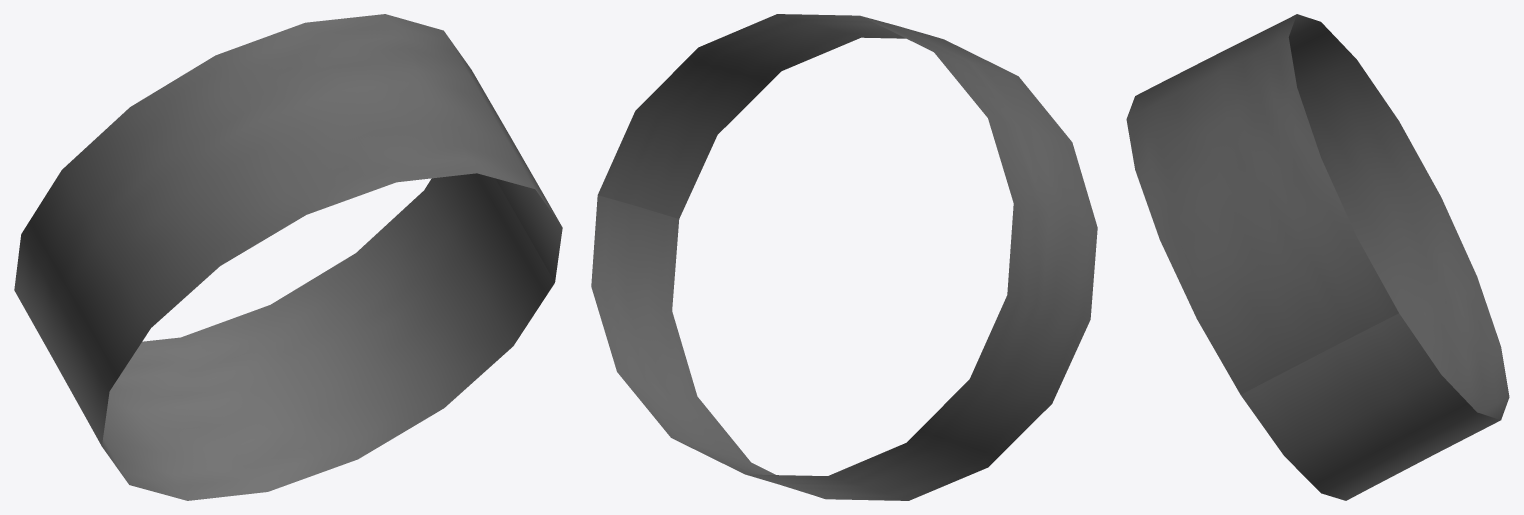
The model's file is mastarmcurve_6x2_c1.obj.
3 renders of one model, left to right at view 1: azimuth 30°, elevation 25°; view 2: azimuth 150°, elevation 25°; view 3: azimuth 270°, elevation 25°, orthographic. The views are drawn at different scales.
Parts seen in each view (by area): view 1: mastarm_6x2_c1; view 2: mastarm_6x2_c1; view 3: mastarm_6x2_c1.
Part boxes in pixels (x1,y1,x2,y2): mastarm_6x2_c1: [14, 14, 562, 500]; mastarm_6x2_c1: [591, 14, 1097, 500]; mastarm_6x2_c1: [1126, 14, 1509, 500].
Bounding box in the file's own units: 0.565 × 0.6016 × 0.474.
